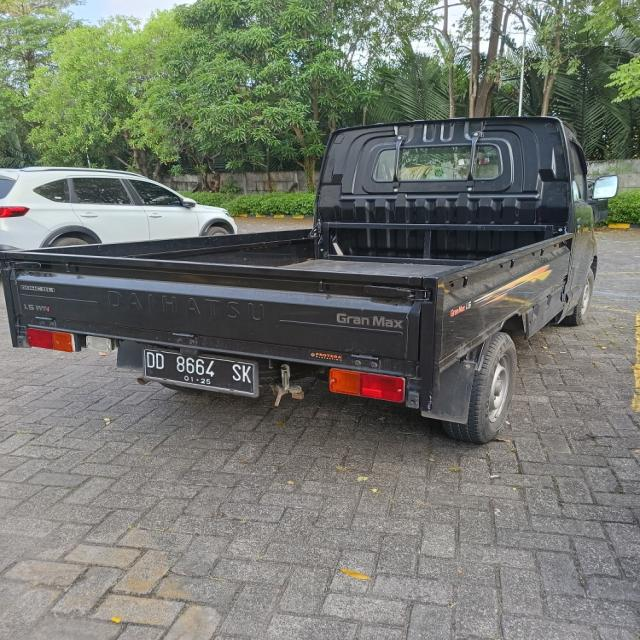plates: (136, 336, 266, 387)
